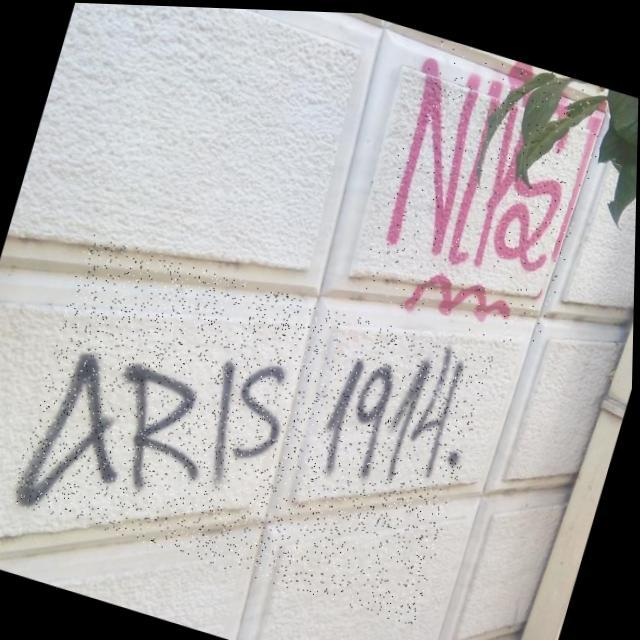-: (9, 230, 496, 626), (357, 29, 616, 350)
